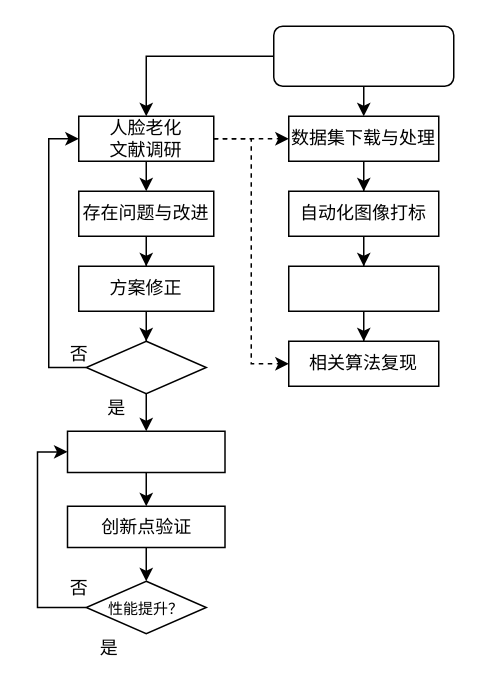
The diagram is 480 pixels wide and 698 high, and some of its shapes have lost their labels. The box of each missing label's shape, as (x1, y1, x2, y2) in pixels:
人工筛选优化: (287, 265, 439, 311)
可行性分析？: (85, 340, 206, 394)
源码设计: (66, 430, 225, 472)
课题选择: (272, 25, 454, 86)
